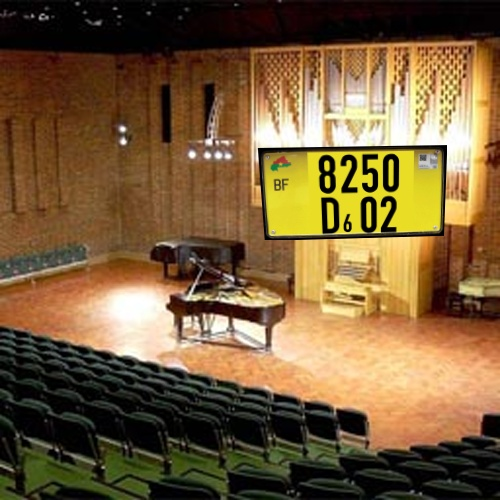plate: (244, 134, 464, 250)
